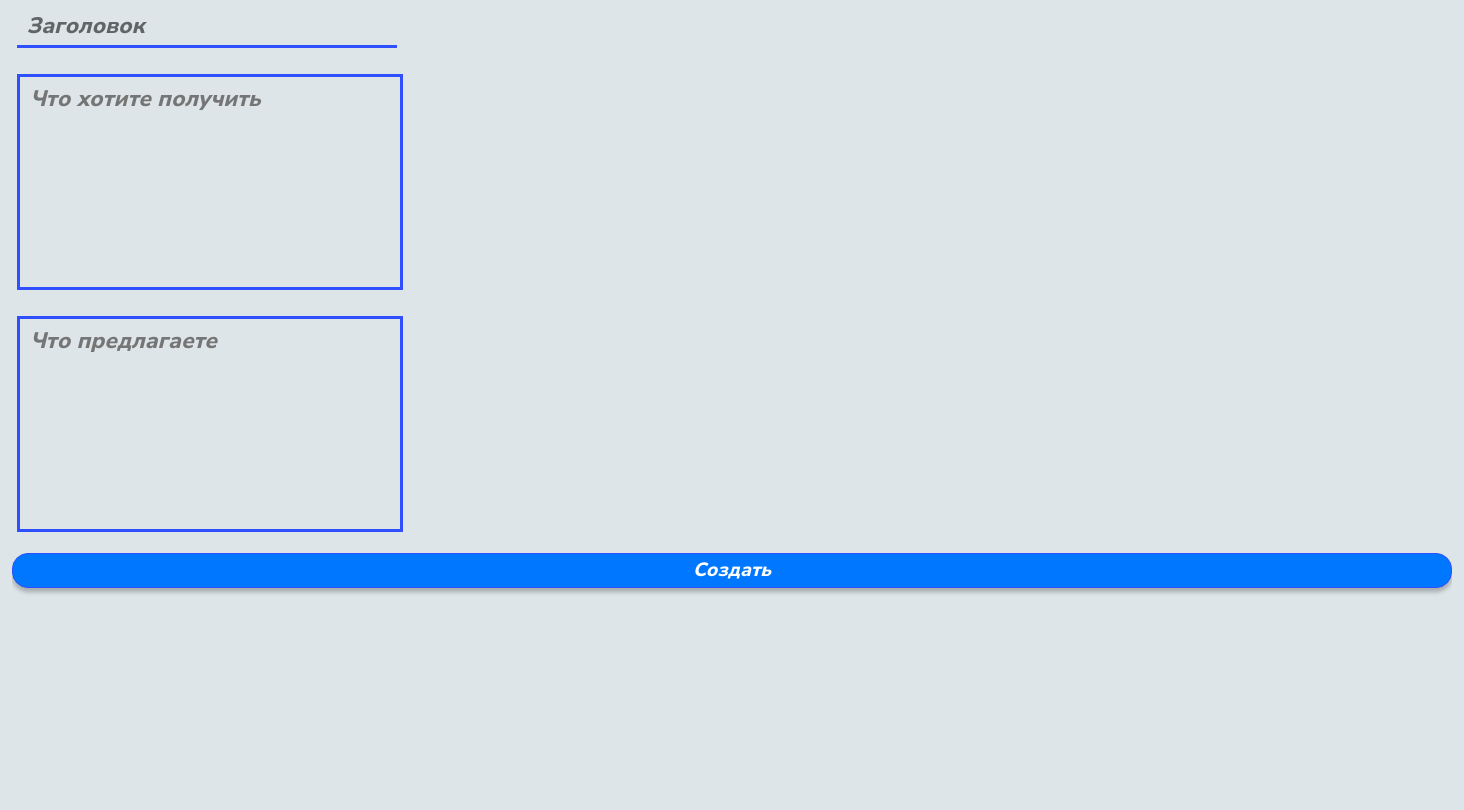
it: CreatePostForm › should show an error message when the mutation rejects with a 400 HttpError
The image size is (1464, 810).
Type "A valid title" into the field with placeholder "Заголовок" at [207, 26], box x1=17 y1=5 x2=397 y2=48
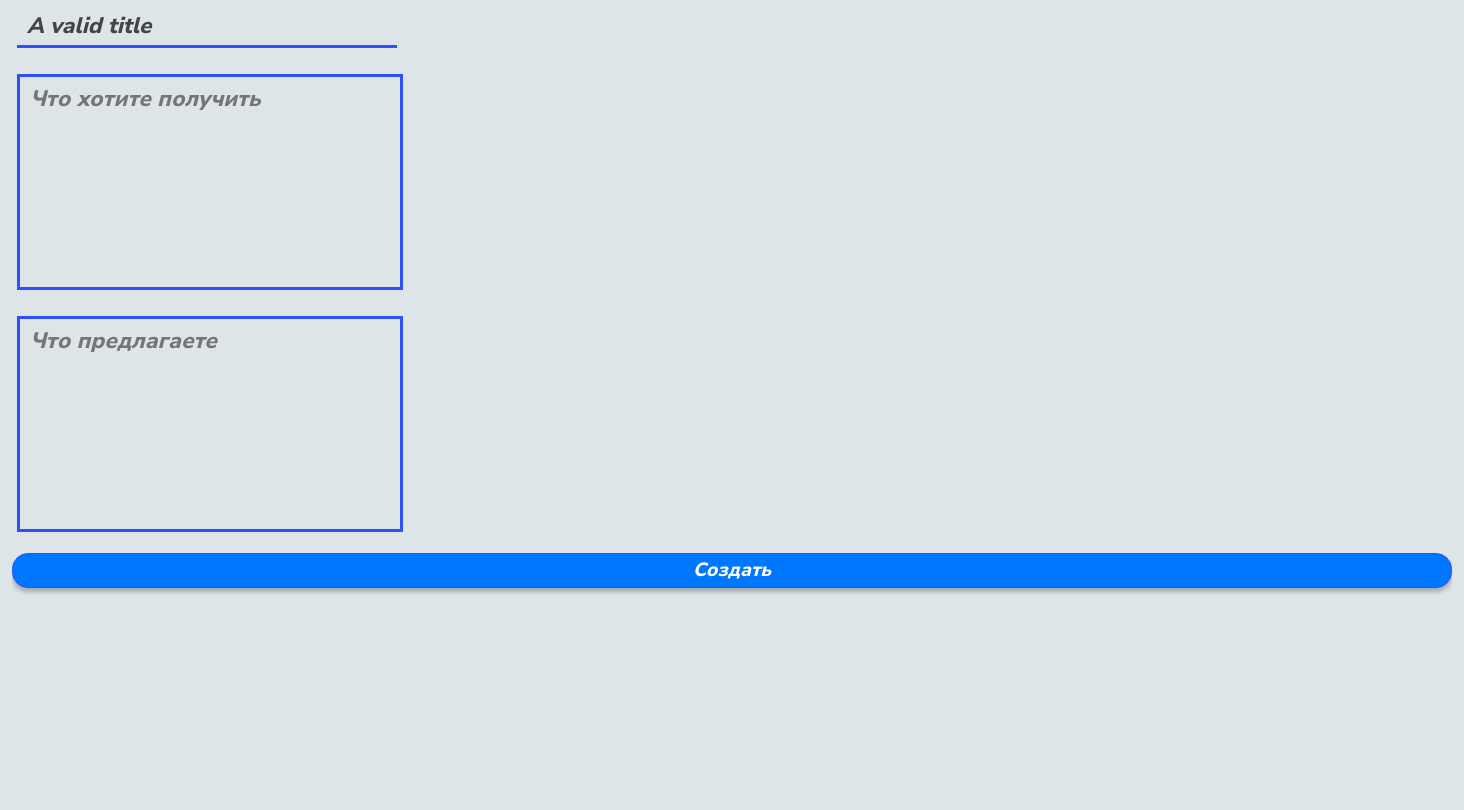
Type "wants something nice" into the text box with placeholder "Что хотите получить" at [210, 182], box x1=17 y1=74 x2=403 y2=290
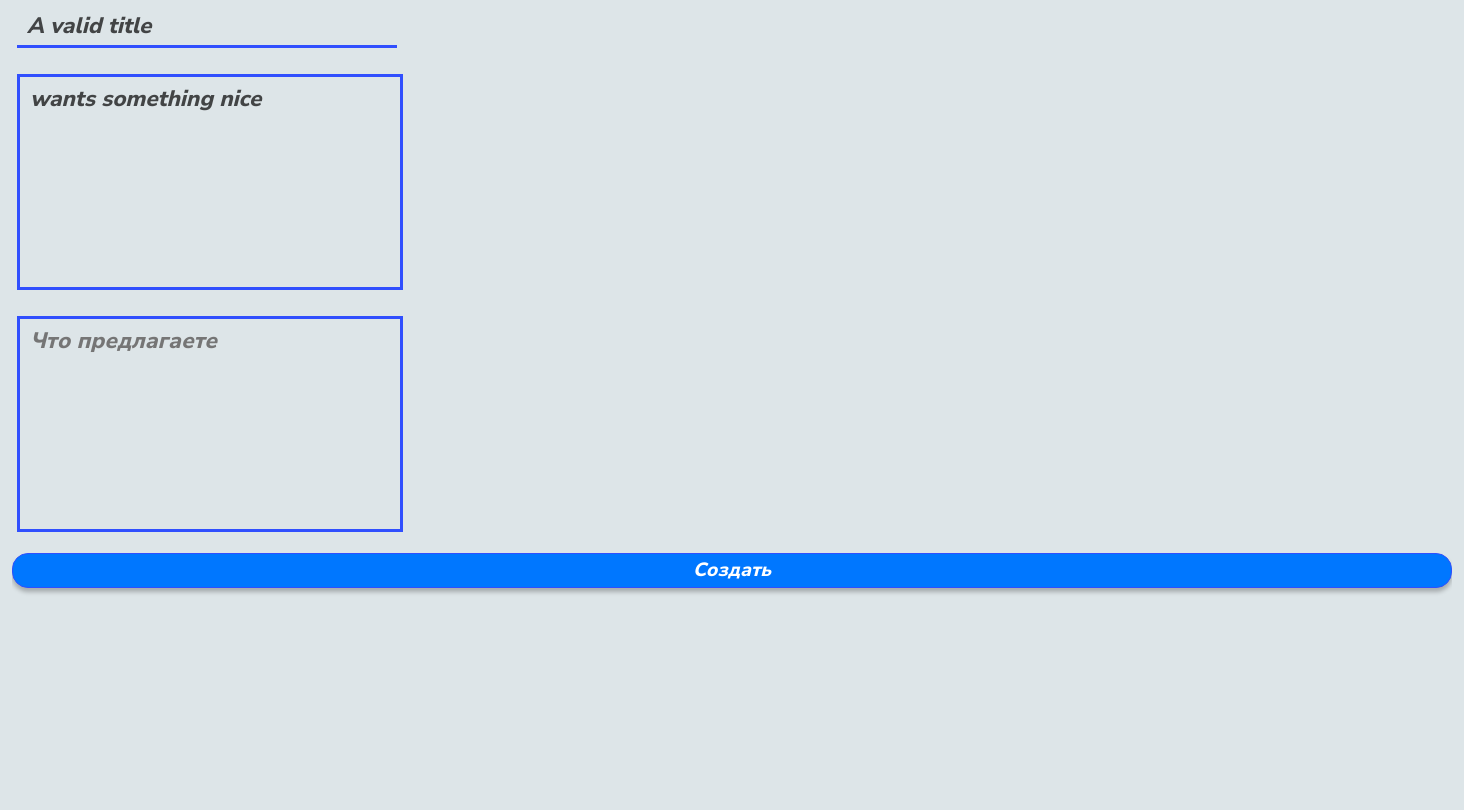
Type "offers something nice" into the text box with placeholder "Что предлагаете" at [210, 424], box x1=17 y1=316 x2=403 y2=532
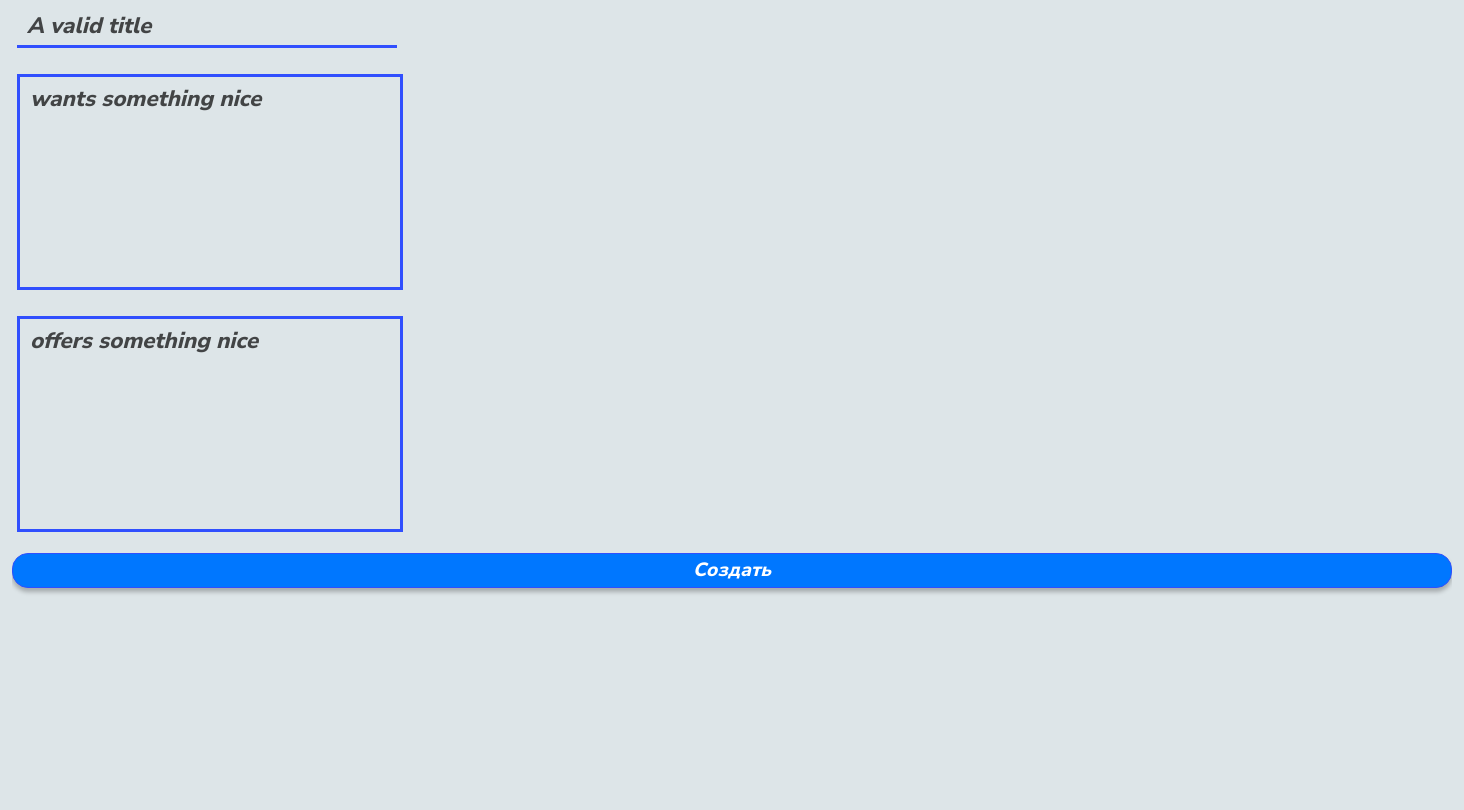
Click the button "Создать" at [732, 570], box x1=12 y1=553 x2=1452 y2=588
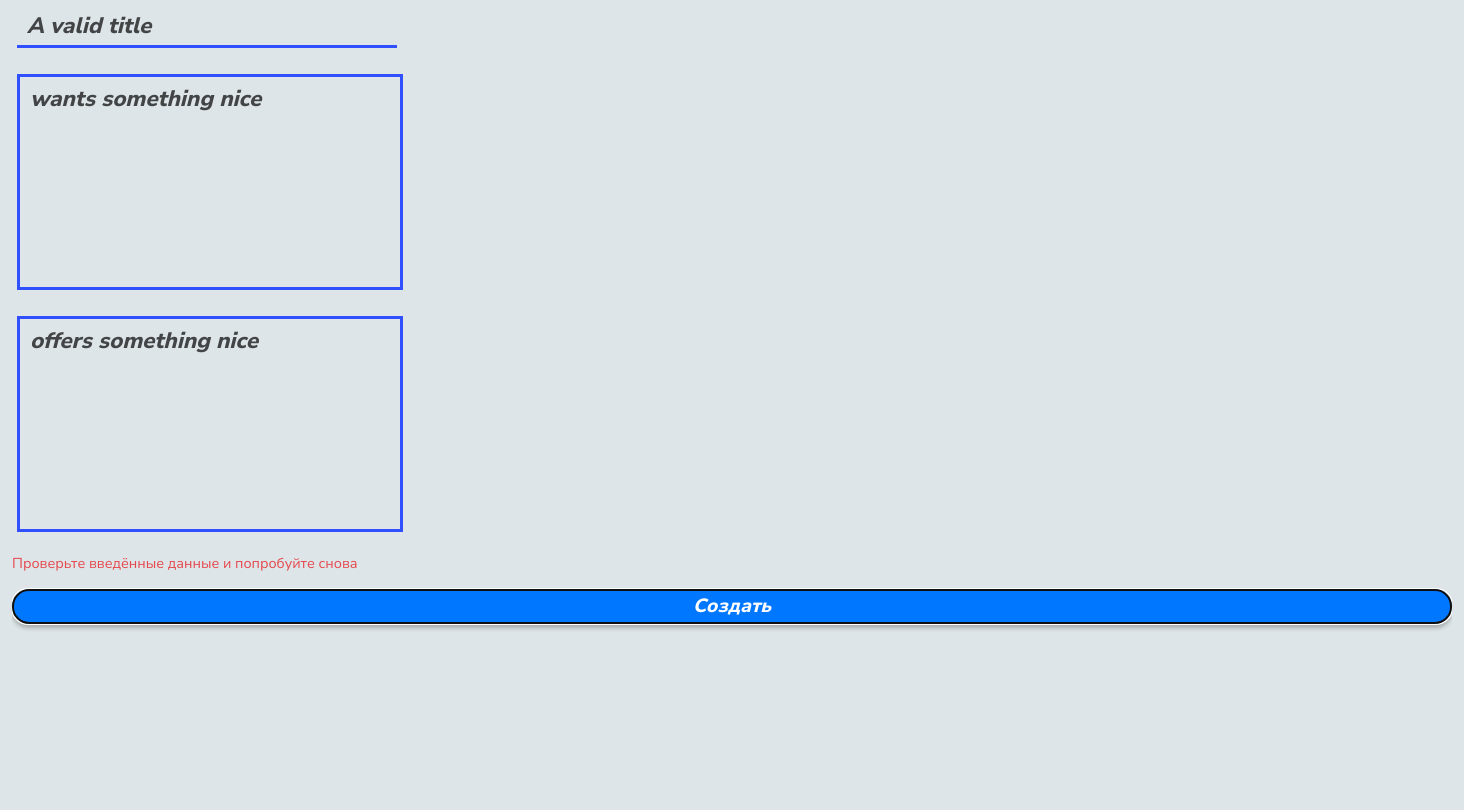
Result: the text "Проверьте введённые данные и попробуйте снова" is shown at x1=12 y1=553 x2=1452 y2=573
